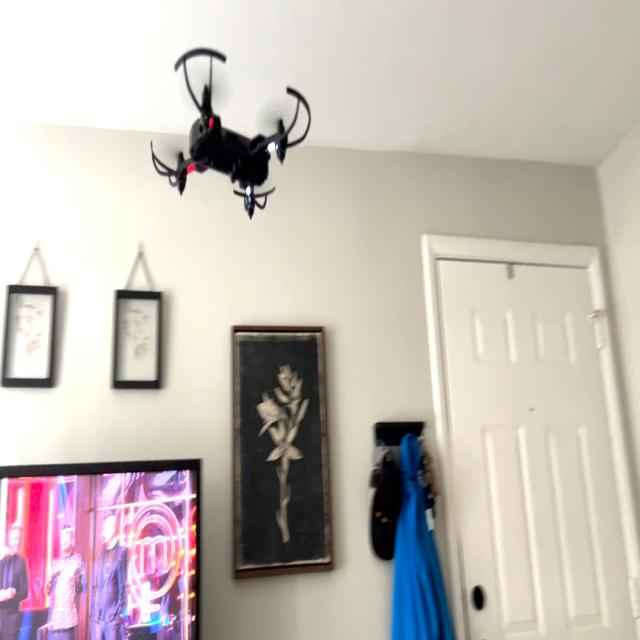drone: (138, 31, 330, 234)
